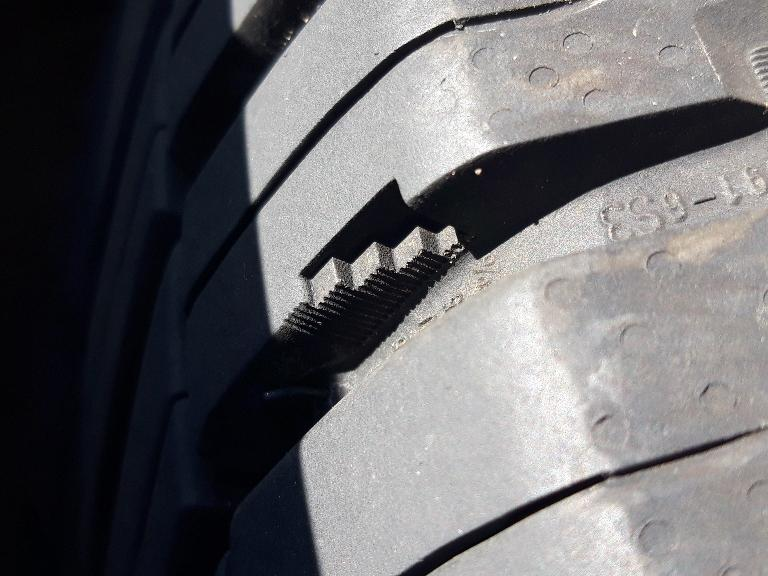temoin:90: (276, 170, 483, 370)
